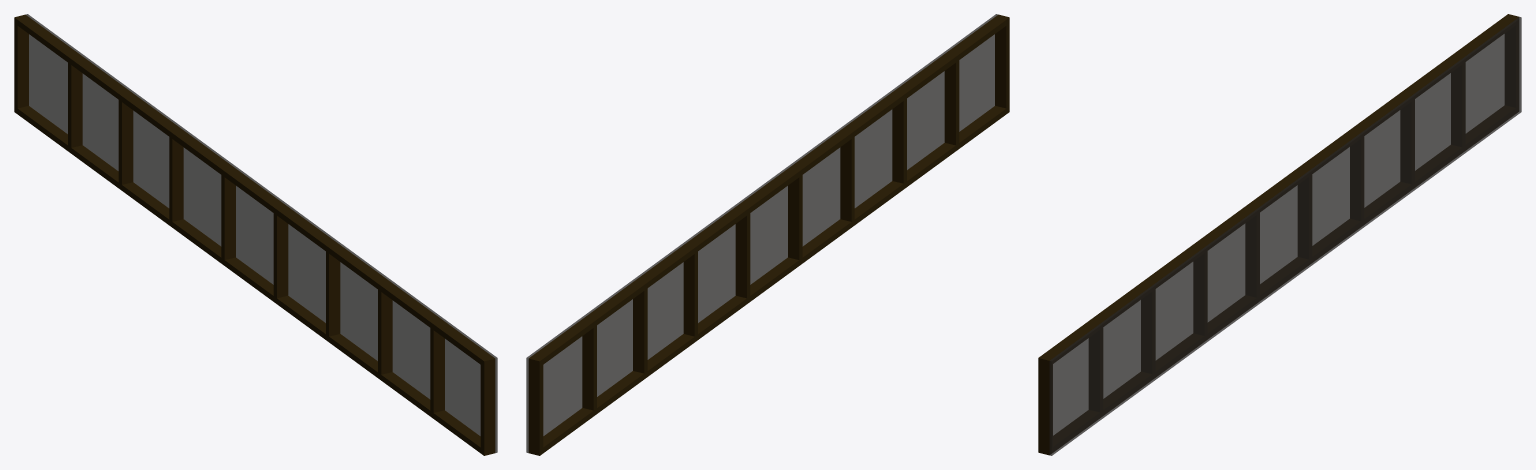
File: 9-SquareWindows(Final).fbx
3 views of the same model, side by side, from view 1: azimuth 30°, elevation 25°; view 2: azimuth 150°, elevation 25°; view 3: azimuth 330°, elevation 25° (orthographic).
Visible parts, largest first — view 1: Glass; view 2: Glass; view 3: Glass.
Boxes of the visible parts, x1,y1,x2,y2 form: Glass: [14, 14, 497, 455]; Glass: [526, 14, 1009, 455]; Glass: [1038, 14, 1521, 455].
Size of the model in its own units: 121 by 800 by 7200.
